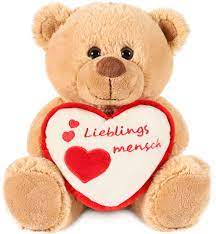teddy: (6, 3, 215, 231)
